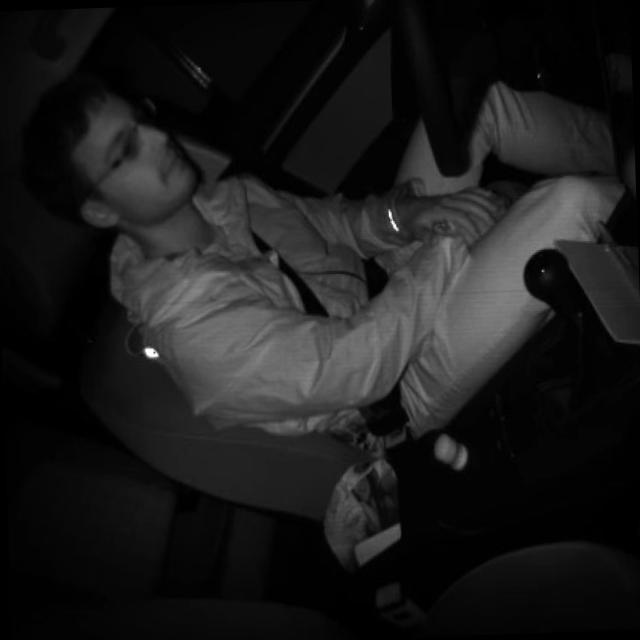pen: (592, 210, 640, 312)
